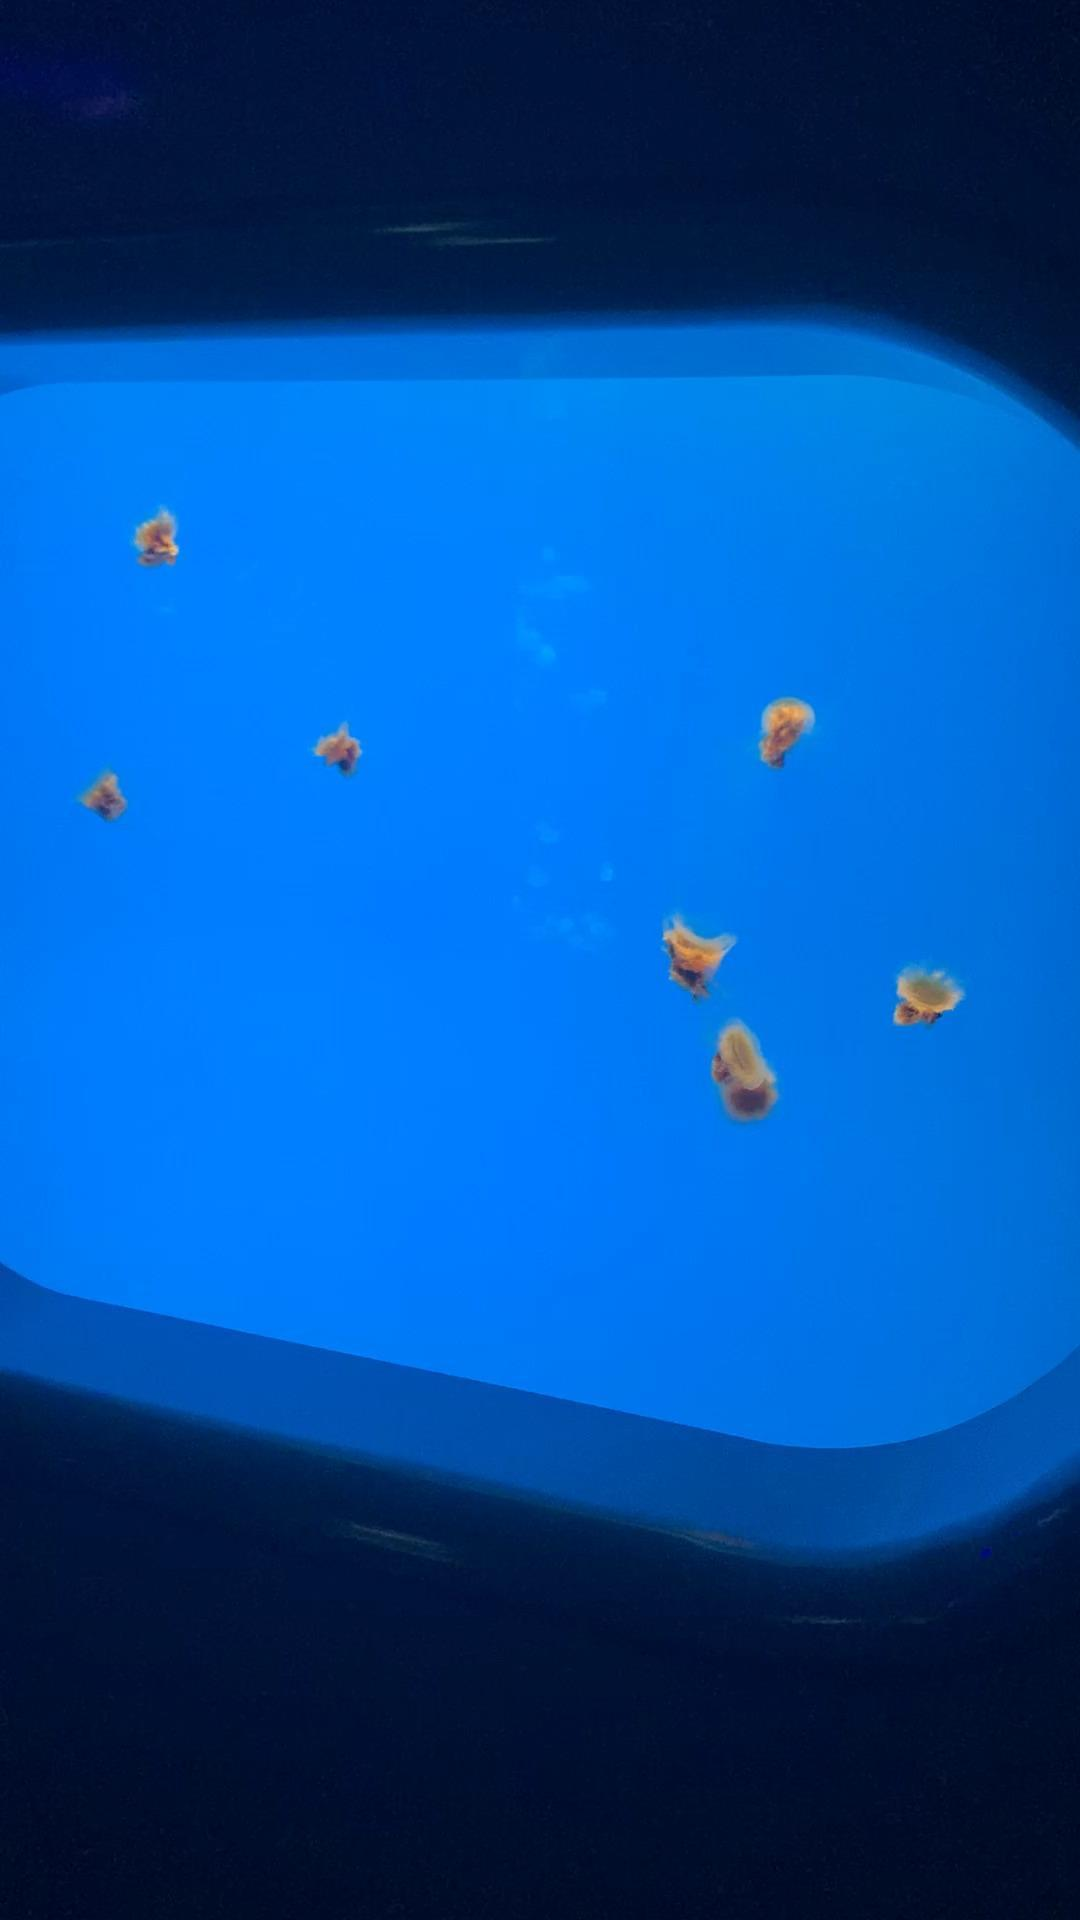jellyfish: (711, 1018, 777, 1125), (659, 916, 737, 1005), (887, 957, 964, 1027), (756, 696, 819, 766), (129, 502, 183, 567), (313, 721, 367, 781), (80, 769, 129, 825)
